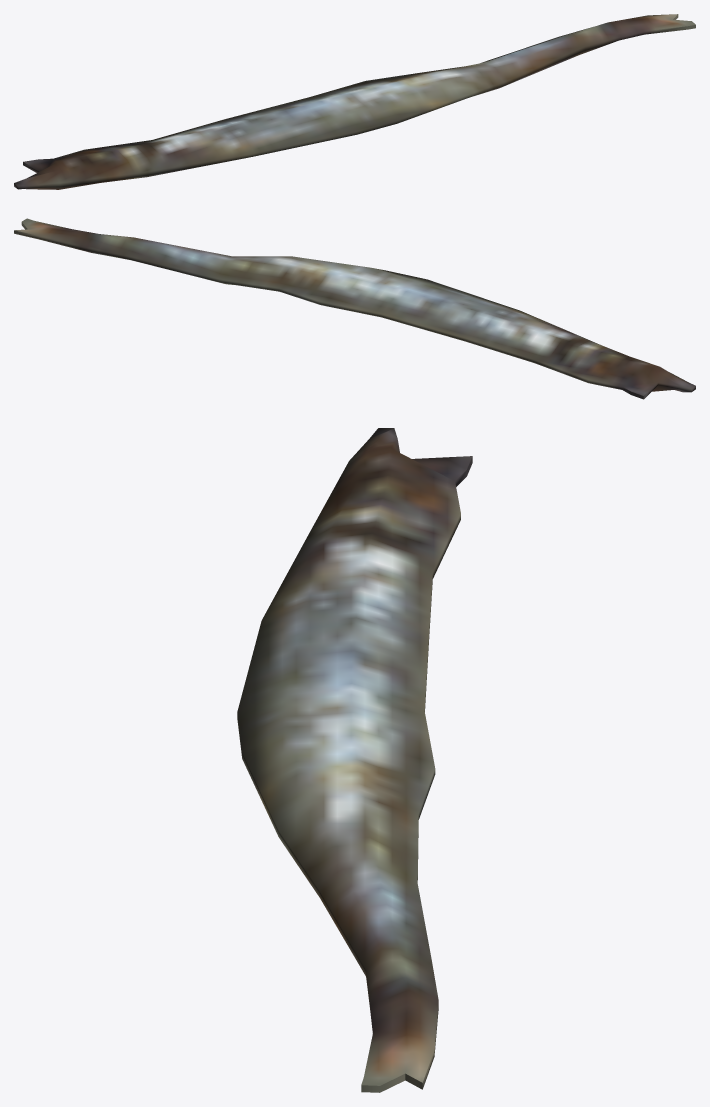
File: dinerfoods10b.fbx
The picture shows the model from 3 angles, top to bottom: view 1: azimuth 30°, elevation 25°; view 2: azimuth 150°, elevation 25°; view 3: azimuth 270°, elevation 25°; orthographic projection. The views are drawn at different scales.
Visible parts, largest first — view 1: dinerfoods10b; view 2: dinerfoods10b; view 3: dinerfoods10b.
Part boxes in pixels (x1,y1,x2,y2): dinerfoods10b: (14,14,695,189); dinerfoods10b: (14,218,695,399); dinerfoods10b: (237,428,472,1092).
Size of the model in its own units: 19.67 by 0.8781 by 2.97.
